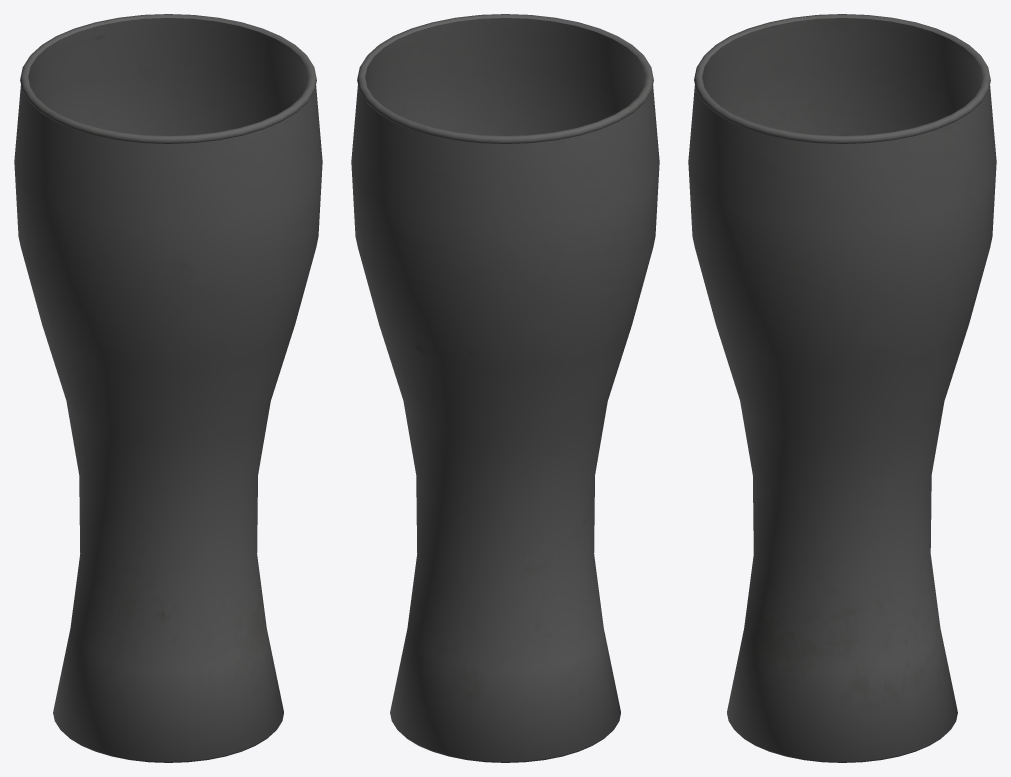
The model's file is Prop_Beer_Glass_x1.fbx.
3 views of the same model, side by side, from view 1: azimuth 30°, elevation 25°; view 2: azimuth 150°, elevation 25°; view 3: azimuth 270°, elevation 25° (orthographic).
Visible parts, largest first — view 1: Prop_Beer_Glass_x1; view 2: Prop_Beer_Glass_x1; view 3: Prop_Beer_Glass_x1.
Part boxes in pixels (x1,y1,x2,y2): Prop_Beer_Glass_x1: (14,14,322,762); Prop_Beer_Glass_x1: (351,14,659,762); Prop_Beer_Glass_x1: (688,14,996,762).
Bounding box in the file's own units: 4.68 × 10.71 × 4.68.
